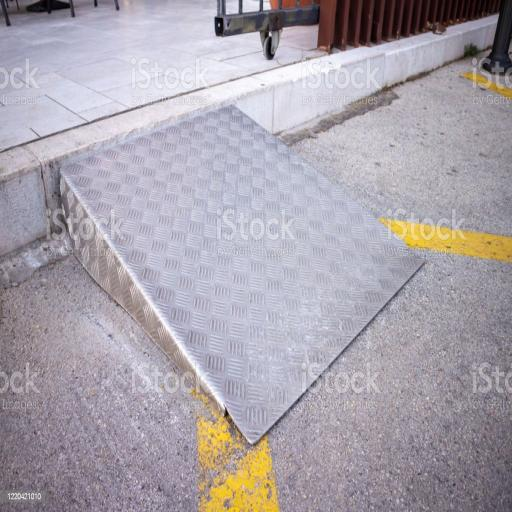ramp: (58, 104, 428, 444)
